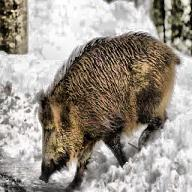boar: (36, 30, 181, 191)
